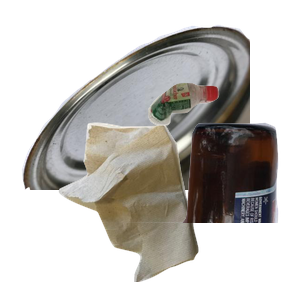glass: (87, 120, 300, 300)
metal: (19, 22, 259, 202)
plastic: (146, 80, 300, 198)
trash: (56, 120, 247, 300)
